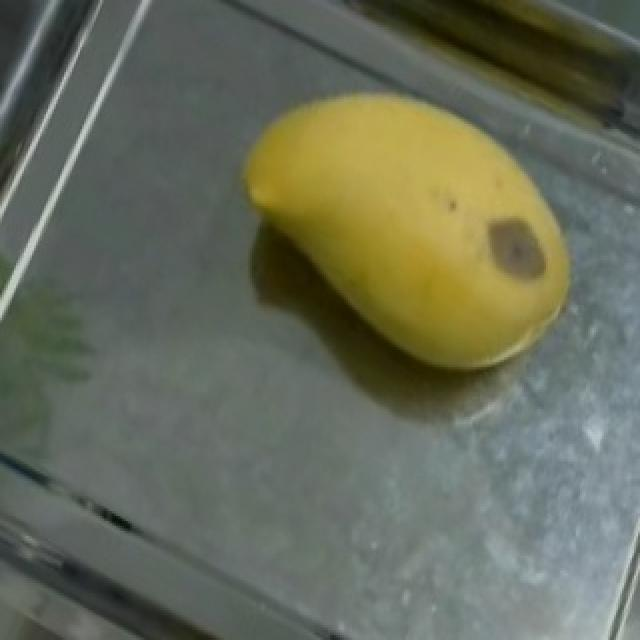fruit: (194, 35, 626, 434)
